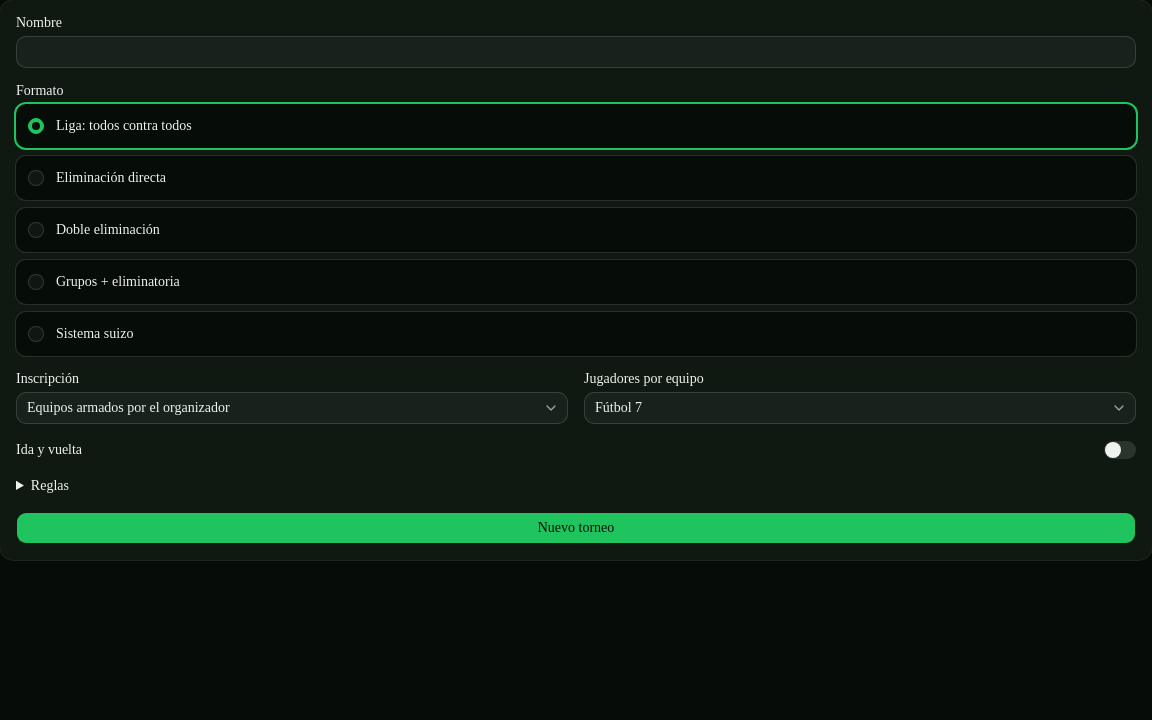
Test case: CreateTournamentForm format-specific fields › switches to the groups_ko fields and hides the league field when that format is picked
Click the radio button named "Grupos + eliminatoria" next to "Grupos + eliminatoria": x=36, y=282 [28,274,44,290]
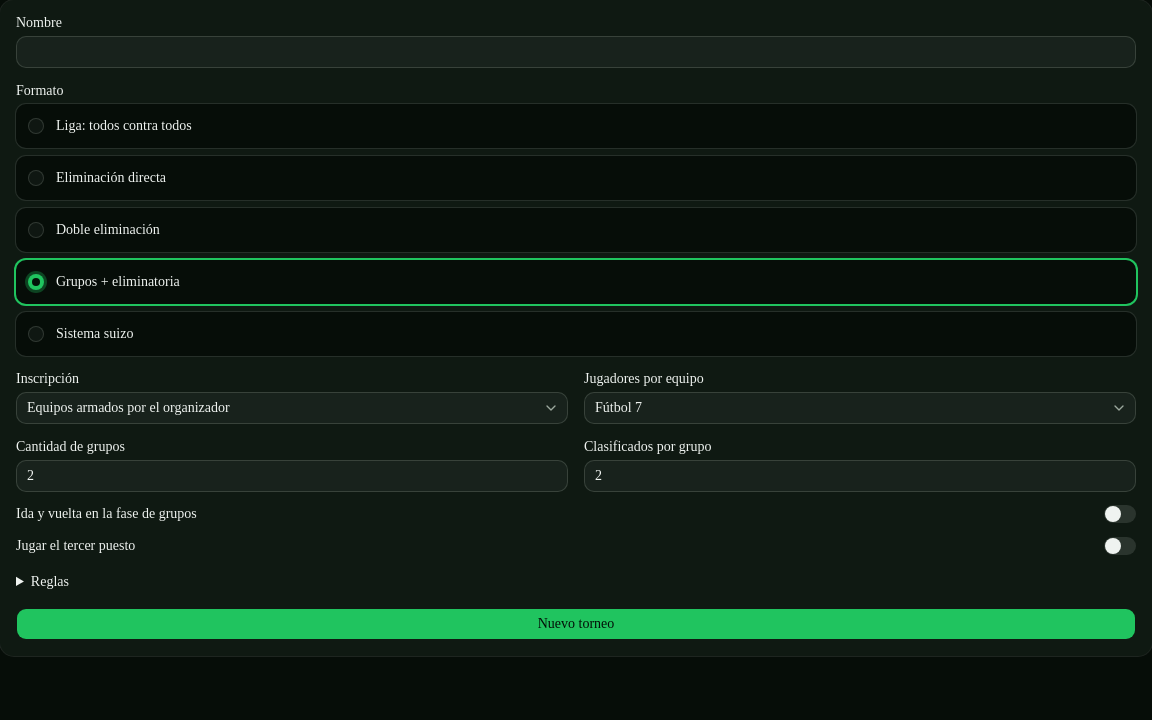
Expected: the number field labelled "Cantidad de grupos" is shown, [16,460,568,492]
